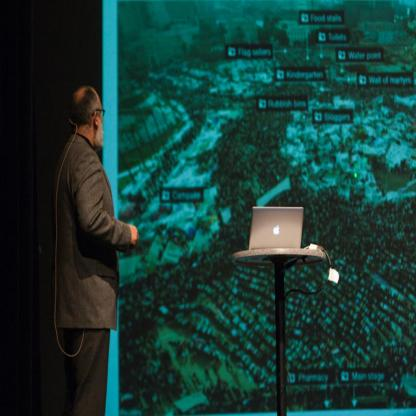board: (248, 206, 304, 248)
